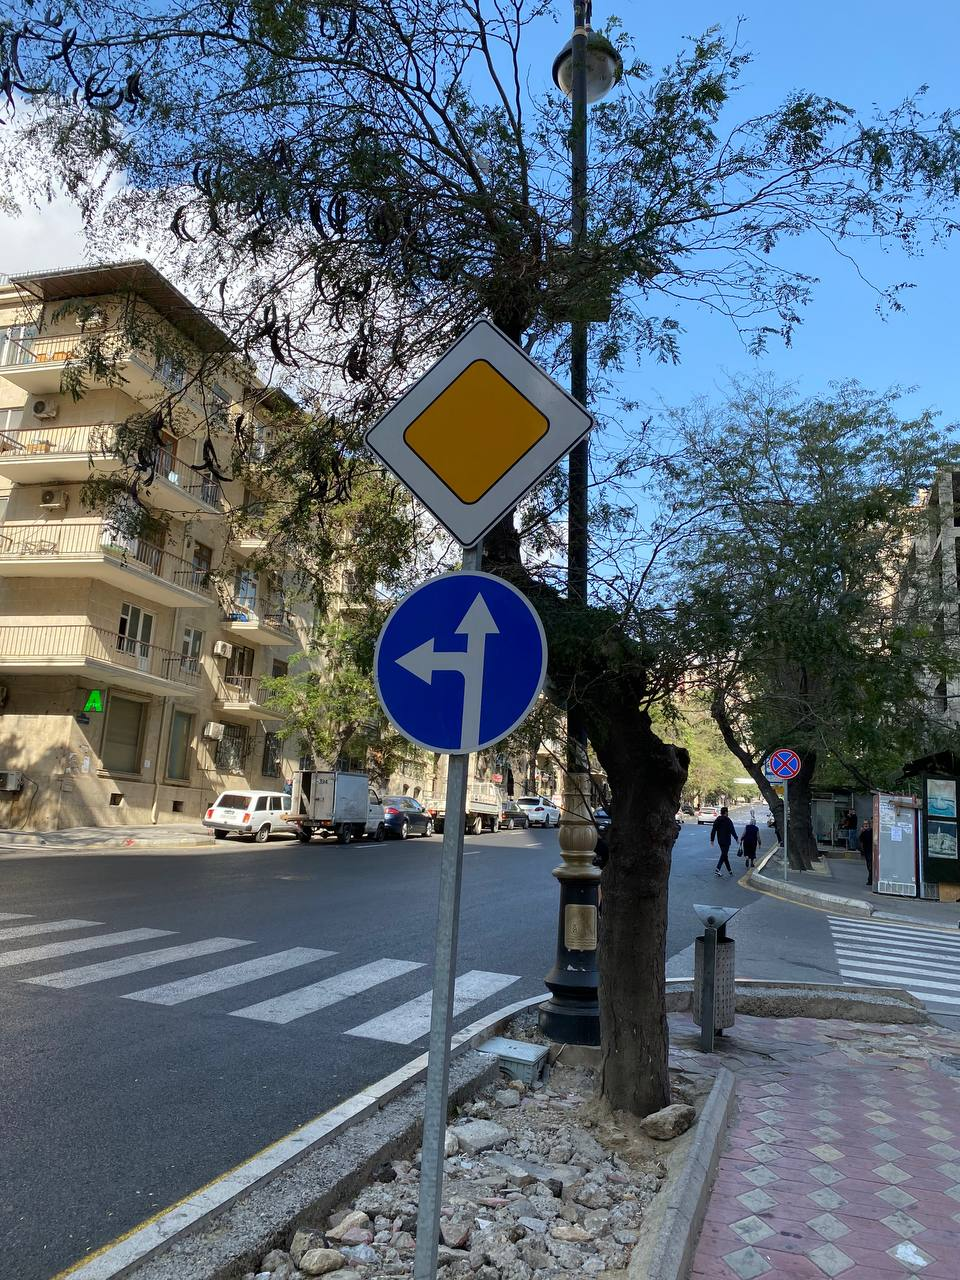Main Road: (364, 321, 594, 548)
No Parking: (769, 748, 801, 780)
Straight or Left: (373, 571, 547, 754)
